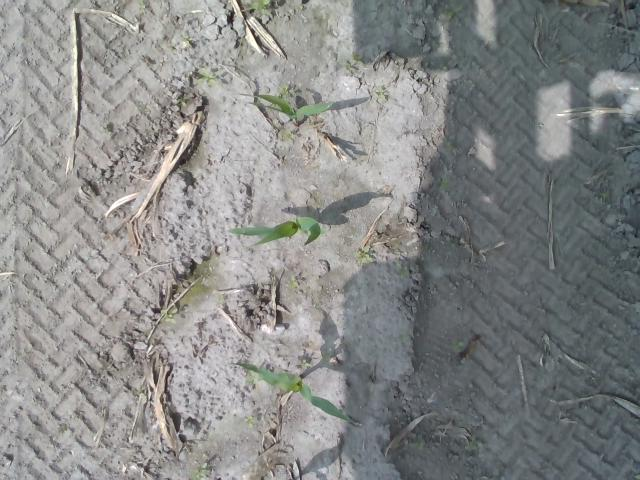Maize: (230, 359, 359, 426), (225, 214, 324, 247), (232, 90, 334, 122)
Weeds: (344, 52, 364, 74), (197, 70, 218, 88), (190, 461, 209, 480), (352, 245, 372, 263), (396, 262, 408, 279), (278, 84, 294, 96), (249, 0, 270, 9), (242, 416, 256, 428), (444, 9, 456, 21), (180, 35, 193, 45), (452, 339, 463, 350), (163, 311, 175, 321), (375, 88, 385, 98), (288, 278, 298, 288), (137, 0, 146, 9)
